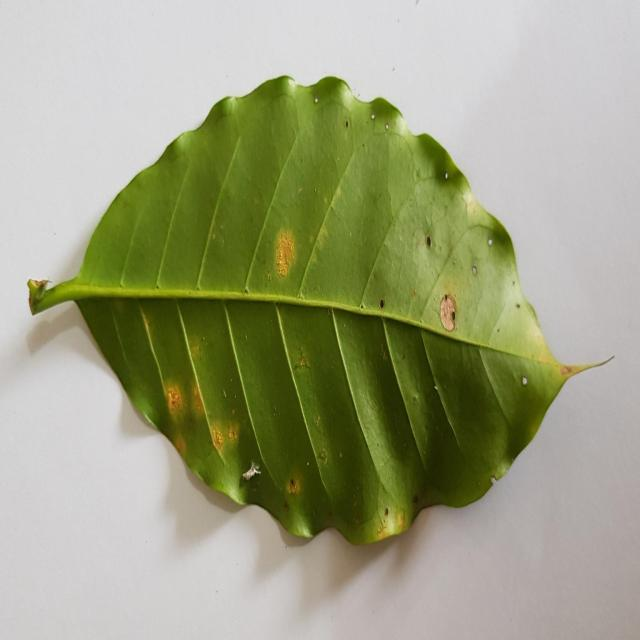miner: (440, 293, 457, 331)
rust: (268, 229, 297, 281), (163, 381, 186, 421), (208, 420, 239, 449), (280, 467, 303, 502), (378, 512, 407, 539), (188, 376, 205, 420), (169, 431, 187, 462)
